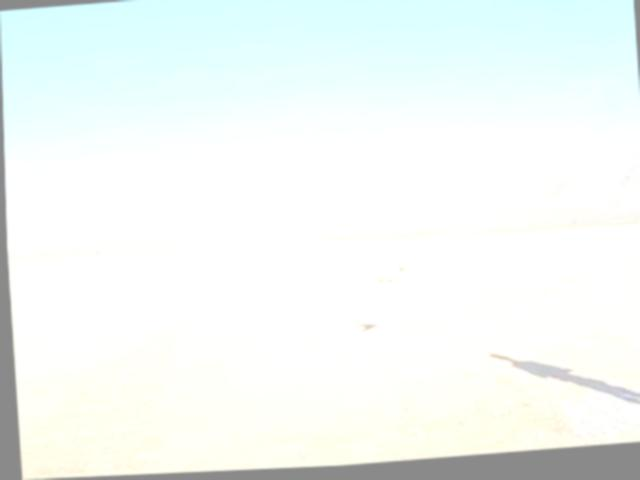iha: (374, 267, 410, 292)
